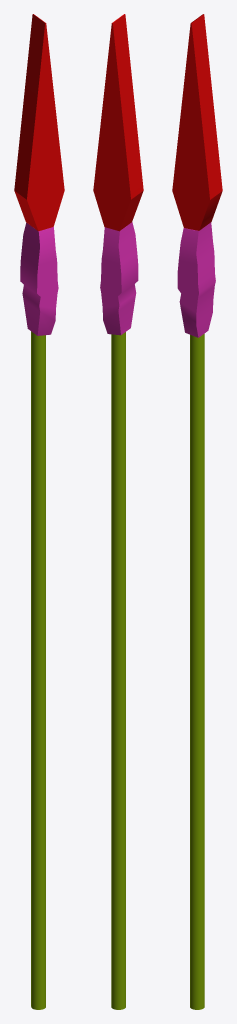
Rendered from DemoSpear.fbx.
3 renders of one model, left to right at view 1: azimuth 30°, elevation 25°; view 2: azimuth 150°, elevation 25°; view 3: azimuth 330°, elevation 25°, orthographic.
Visible parts, largest first — view 1: Handle2, Stone1, Cloth1; view 2: Handle2, Stone1, Cloth1; view 3: Handle2, Stone1, Cloth1.
Part boxes in pixels (x1=…): Handle2: x1=31, y1=331, x2=45, y2=1009; Stone1: x1=14, y1=14, x2=64, y2=231; Cloth1: x1=20, y1=223, x2=58, y2=335; Handle2: x1=111, y1=332, x2=125, y2=1009; Stone1: x1=93, y1=14, x2=143, y2=231; Cloth1: x1=100, y1=222, x2=138, y2=335; Handle2: x1=190, y1=334, x2=204, y2=1009; Stone1: x1=172, y1=14, x2=222, y2=230; Cloth1: x1=177, y1=222, x2=215, y2=337.
Size of the model in its own units: 8.76 by 219 by 6.74.
